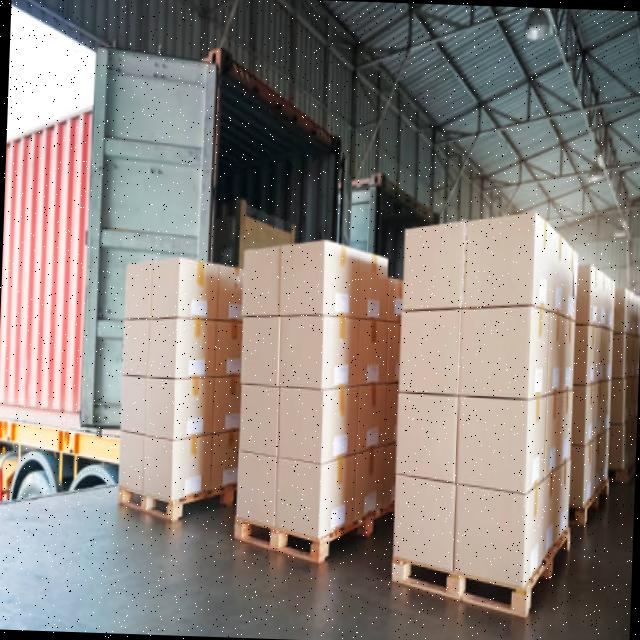Wooden-Pallets: (393, 527, 573, 618), (230, 513, 383, 568), (115, 485, 232, 523)
